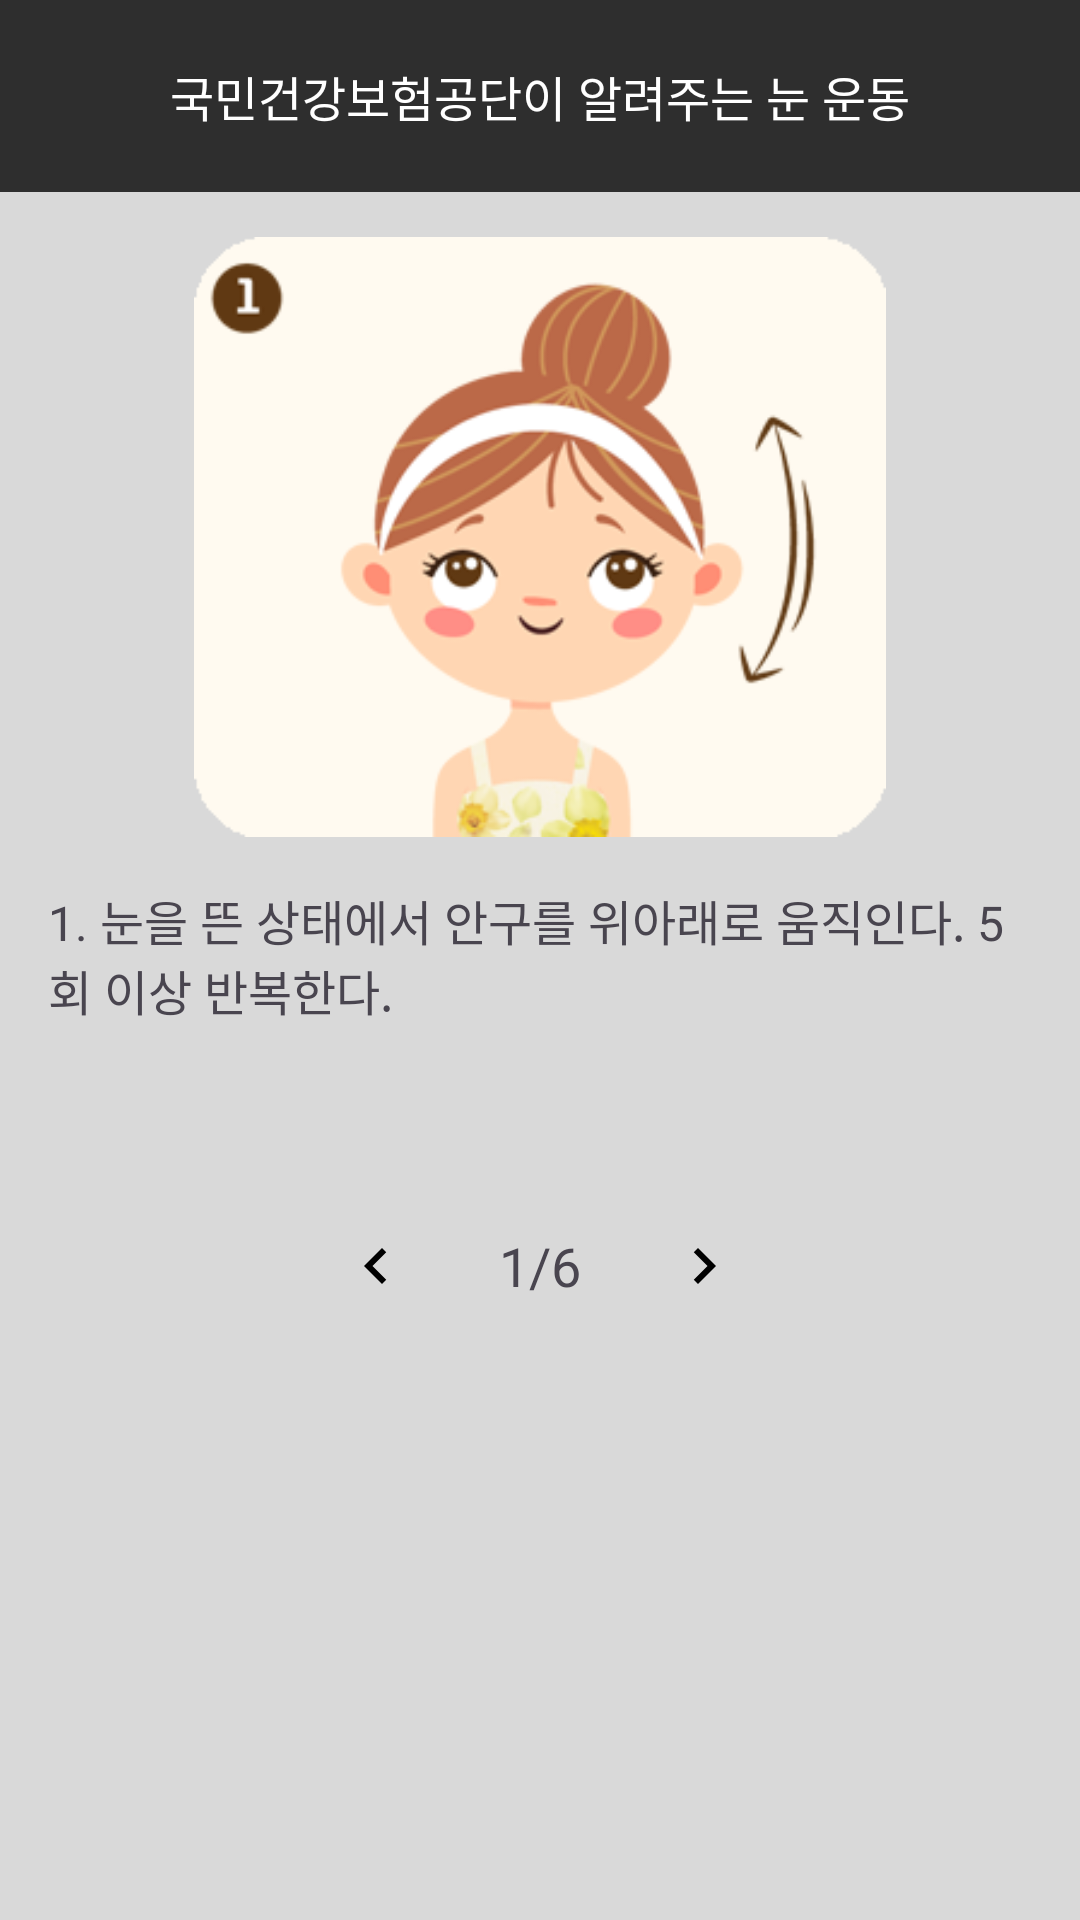

Icons on this 1080px×1920px Android screen, each with its box as (x1, y1, x2, y2):
다음 페이지: (694, 1248, 716, 1284)
이전 페이지: (364, 1248, 386, 1284)
